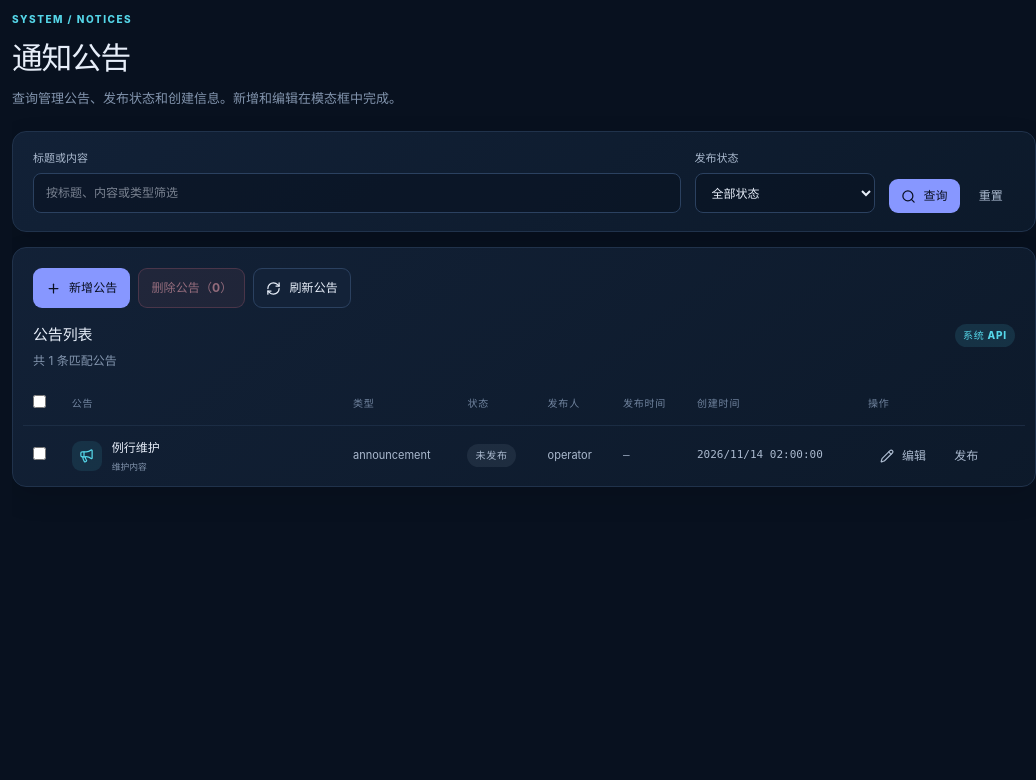
NoticesPage › 刷新失败时保留旧公告并提供带错误码语义的重试入口
Expected: the text "例行维护" is shown, x1=112 y1=439 x2=160 y2=457
Click the button "刷新公告" at (302, 288), box x1=253 y1=268 x2=351 y2=308
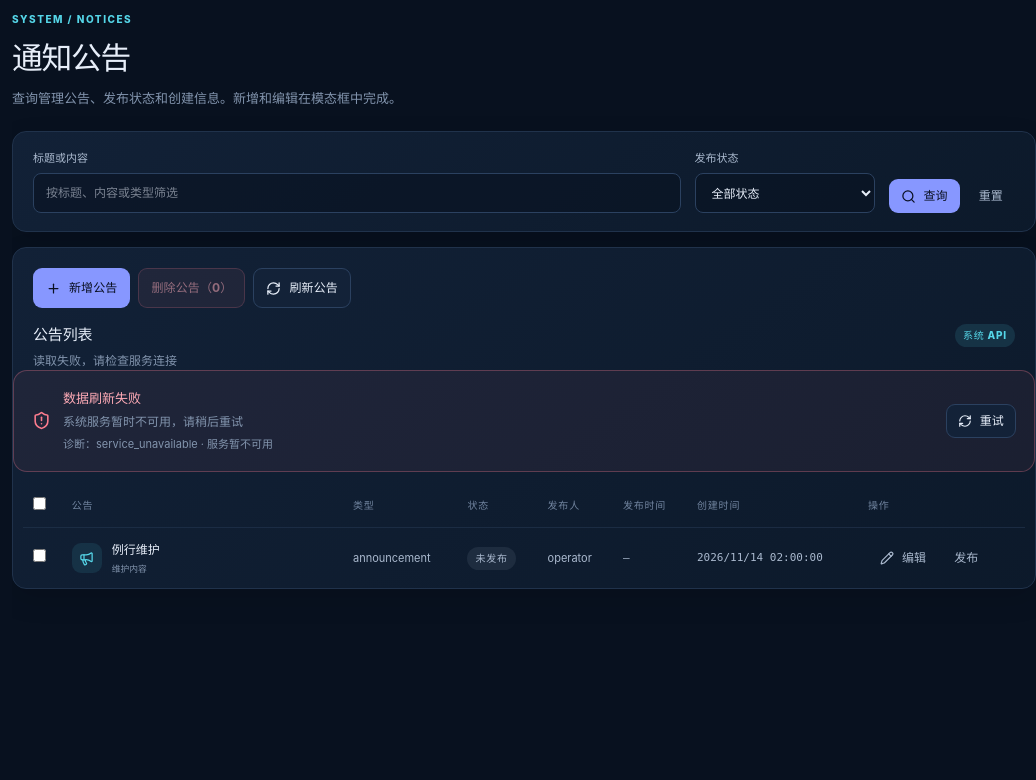
Expected: the text "例行维护" is shown, x1=112 y1=541 x2=160 y2=559
Now the message shows "数据刷新失败", box x1=63 y1=390 x2=141 y2=406
Now the message shows "系统服务暂时不可用，请稍后重试", box x1=63 y1=414 x2=243 y2=429
Click the button "重试" at (981, 421), box x1=946 y1=404 x2=1016 y2=438
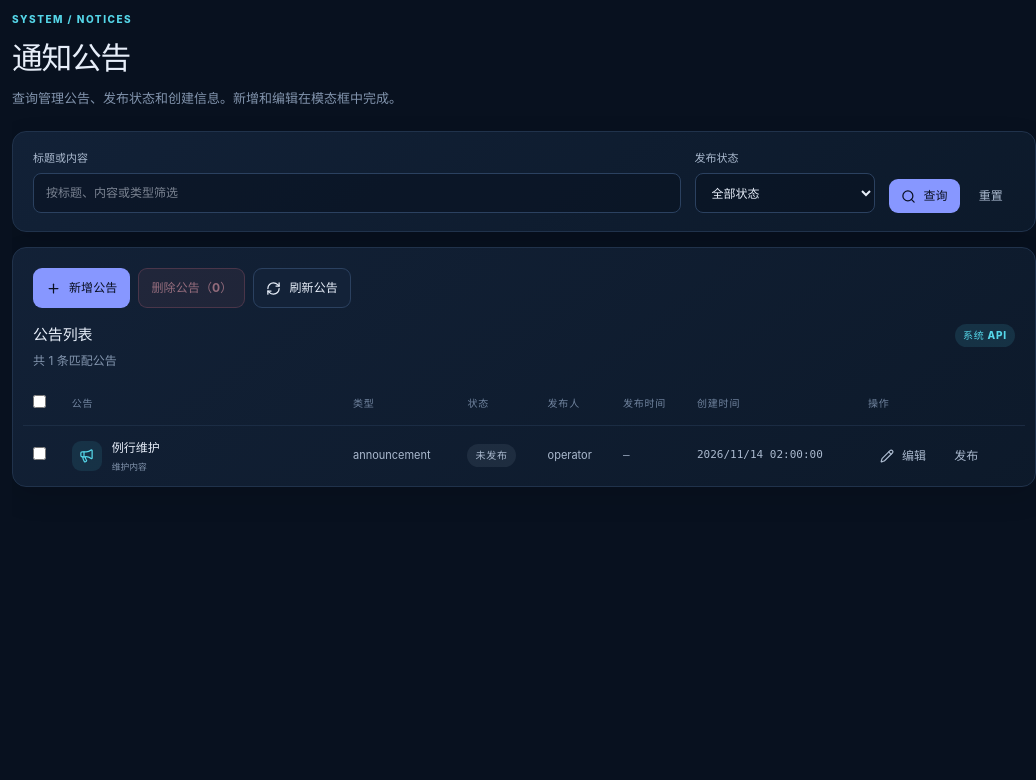
Expected: the text "例行维护" is shown, x1=112 y1=439 x2=160 y2=457
Now the text "数据刷新失败" is gone
